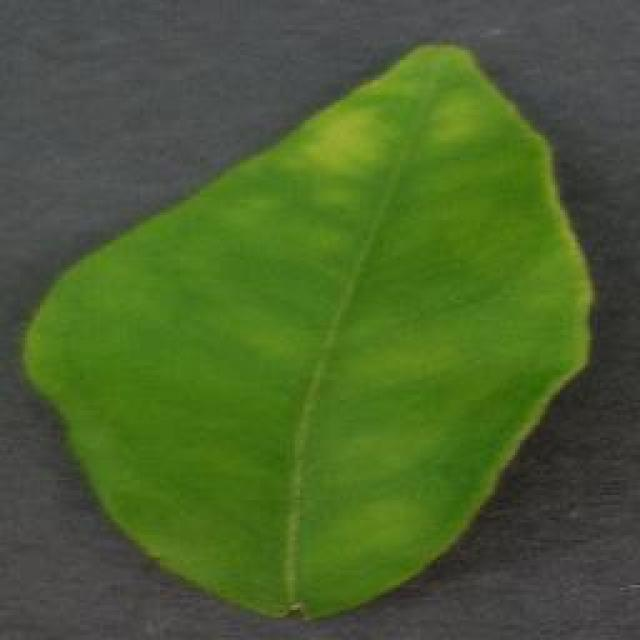Orange_Haunglongbing_Citrus_greening: (145, 124, 553, 594)
